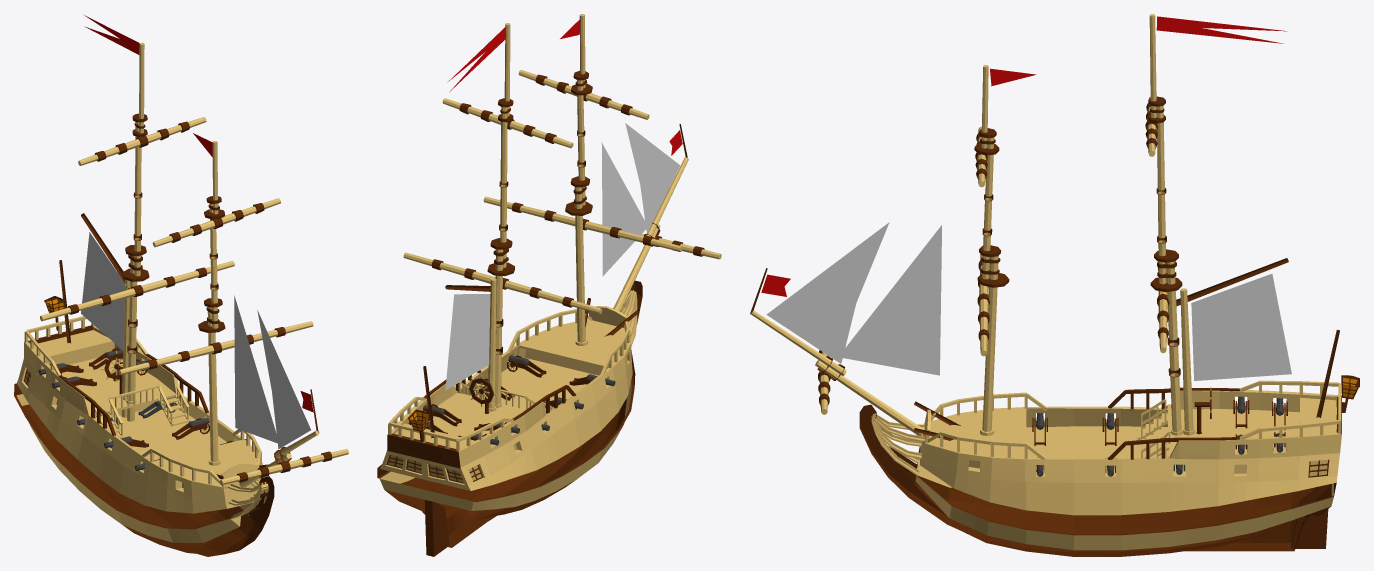
File: 2korabl.glb
3 renders of one model, left to right at view 1: azimuth 30°, elevation 25°; view 2: azimuth 150°, elevation 25°; view 3: azimuth 270°, elevation 25°, orthographic. The views are drawn at different scales.
Parts seen in each view (by area): view 1: Плоскость; view 2: Плоскость; view 3: Плоскость.
Boxes of the visible parts, x1,y1,x2,y2 form: Плоскость: [14, 15, 348, 556]; Плоскость: [377, 14, 721, 556]; Плоскость: [750, 14, 1359, 556].
Size of the model in its own units: 1.6 by 3.72 by 3.85.
